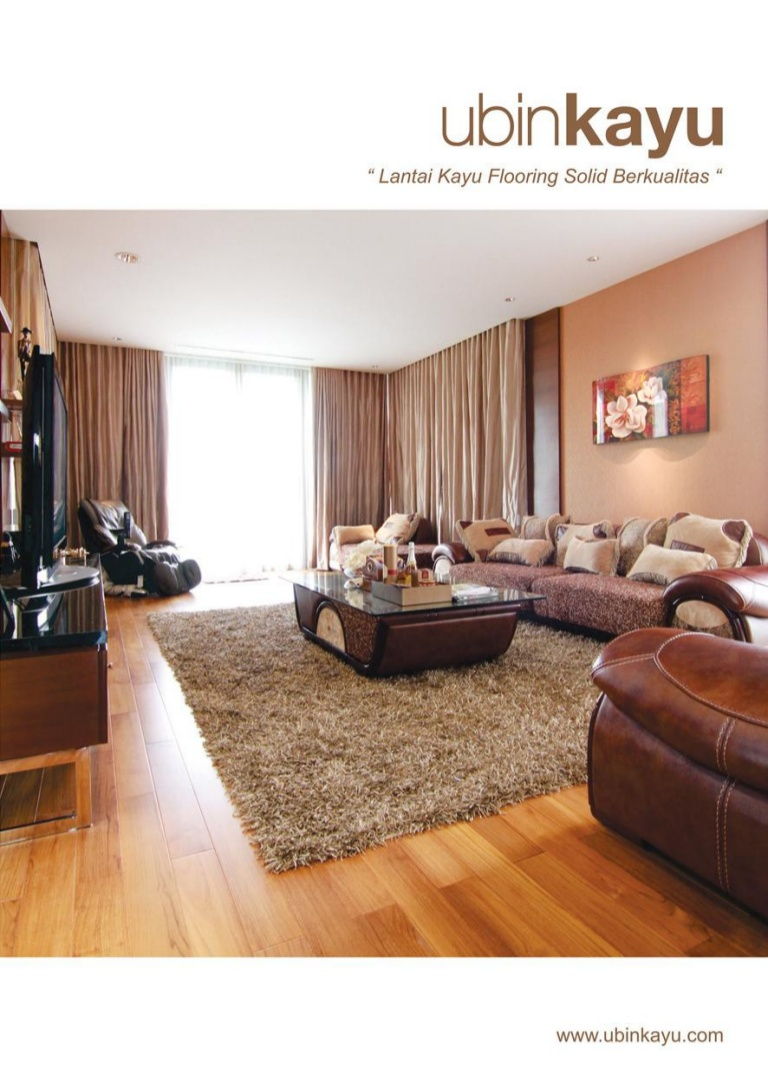bantal: (641, 549, 707, 587), (568, 538, 618, 575), (497, 536, 551, 568)
lukisan: (589, 353, 715, 444)
meja: (278, 553, 537, 676)
sova: (489, 518, 755, 629)
tv: (22, 351, 69, 565)
